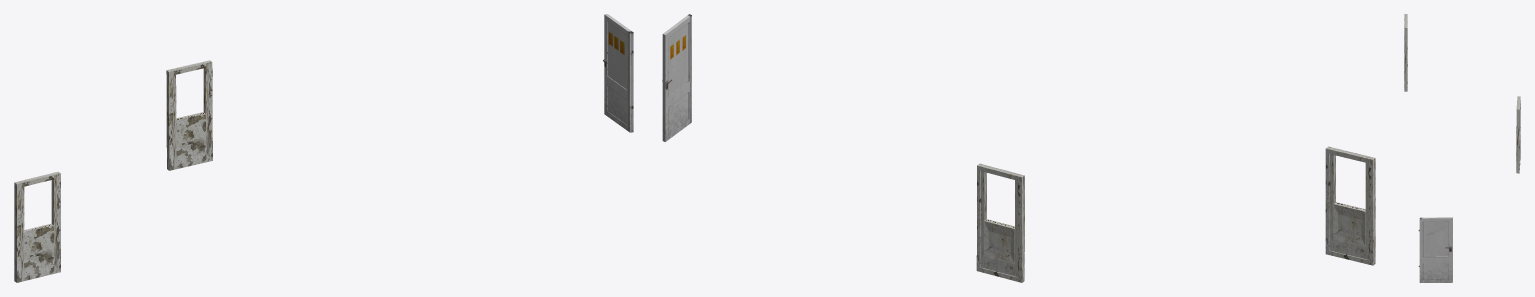
File: cua.glb
3 renders of one model, left to right at view 1: azimuth 30°, elevation 25°; view 2: azimuth 150°, elevation 25°; view 3: azimuth 270°, elevation 25°, orthographic. The views are drawn at different scales.
Parts seen in each view (by area): view 1: Sphere.001_white paint_0.003, Sphere.001_white paint_0.001, Door__0; view 2: Sphere.001_white paint_0.003, Sphere.001_white paint_0.001, Door__0; view 3: Door__0, Sphere.001_white paint_0.001, Sphere.001_white paint_0.003.
Part boxes in pixels (x1,y1,x2,y2): Sphere.001_white paint_0.003: [14, 171, 60, 282]; Sphere.001_white paint_0.001: [166, 60, 212, 170]; Door__0: [603, 14, 633, 132]; Sphere.001_white paint_0.003: [1325, 146, 1375, 265]; Sphere.001_white paint_0.001: [976, 163, 1024, 282]; Door__0: [662, 14, 691, 141]; Door__0: [1418, 217, 1452, 282]; Sphere.001_white paint_0.001: [1516, 96, 1520, 173]; Sphere.001_white paint_0.003: [1404, 14, 1407, 91].
Bounding box in the file's own units: 11.26 × 1.88 × 2.8.
3 materials, 3 textured.
